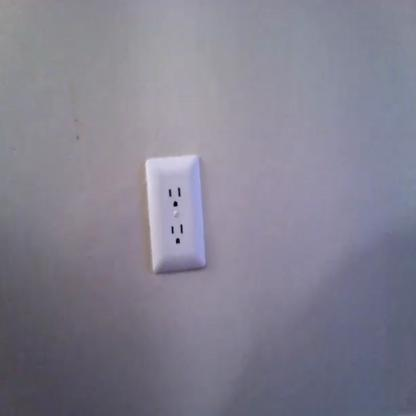OUTLET: (144, 158, 206, 270)
